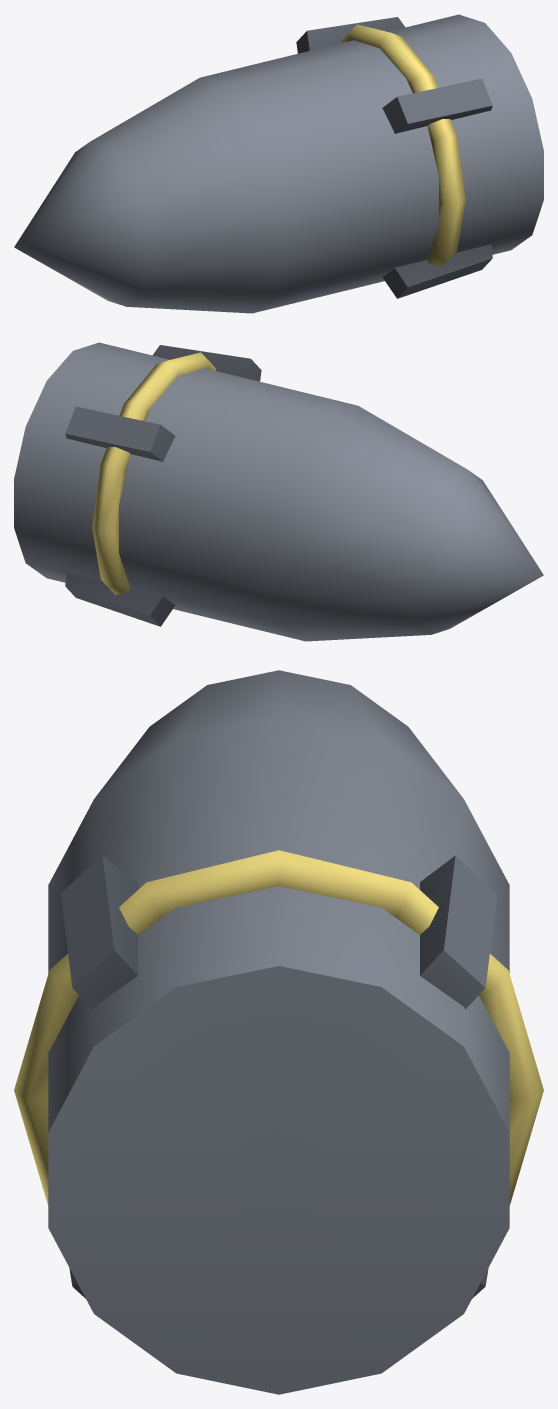
The model's file is Mortar.fbx.
3 views of the same model, one above another, from view 1: azimuth 30°, elevation 25°; view 2: azimuth 150°, elevation 25°; view 3: azimuth 270°, elevation 25° (orthographic). The views are drawn at different scales.
Visible parts, largest first — view 1: mortar_shell; view 2: mortar_shell; view 3: mortar_shell.
Boxes of the visible parts, x1,y1,x2,y2 form: mortar_shell: (14, 14, 543, 313); mortar_shell: (14, 342, 543, 641); mortar_shell: (14, 670, 543, 1394).
Size of the model in its own units: 0.45 by 0.224 by 0.224.
